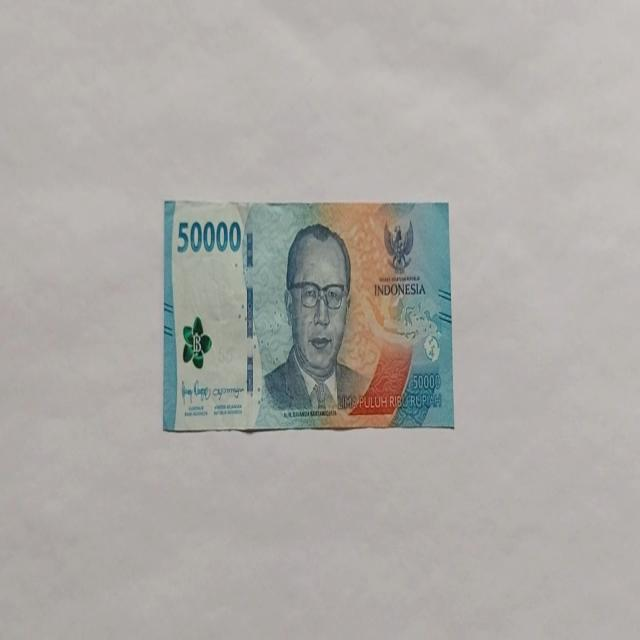lima puluh ribu rupiah: (162, 197, 454, 434), (256, 222, 372, 420)
